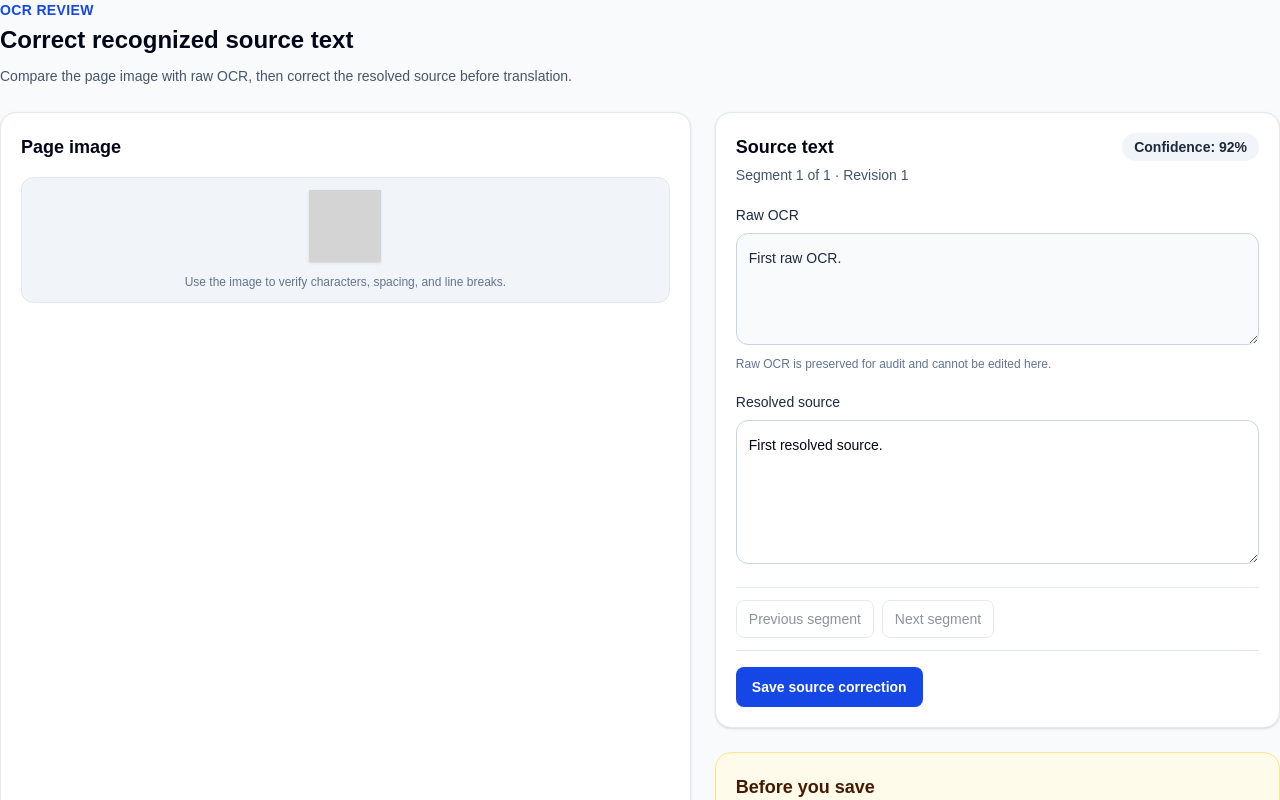
Test: OCRReview › shows a reload action when save loses a revision conflict
Check: the text box labelled "Resolved source" is shown, box [736,420,1259,564]
What coordinates should you click on to do the following:
click the button "Save source correction"
I would click on:
 (829, 687)
Its box is [736,667,923,707].
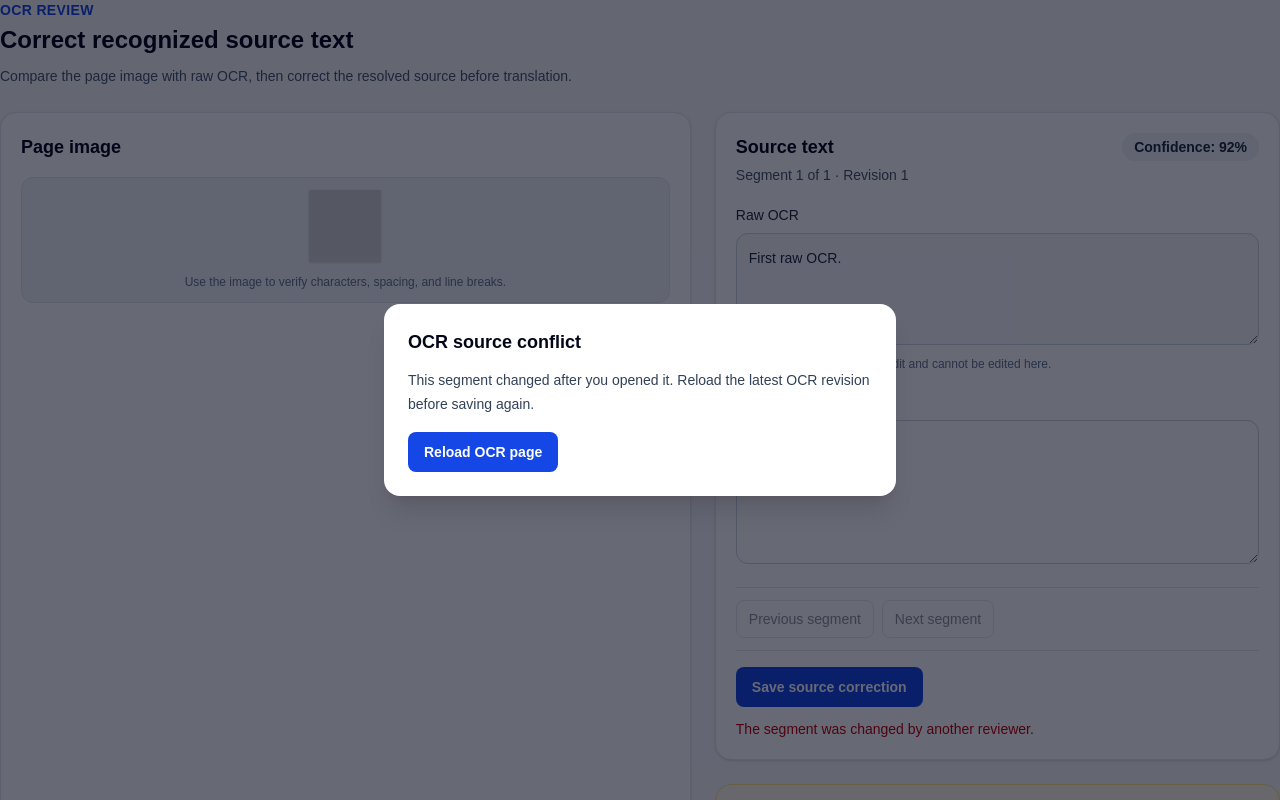
Check: the dialog "OCR source conflict" is shown
Check: the button "Reload OCR page" is shown, box [408,432,558,472]
